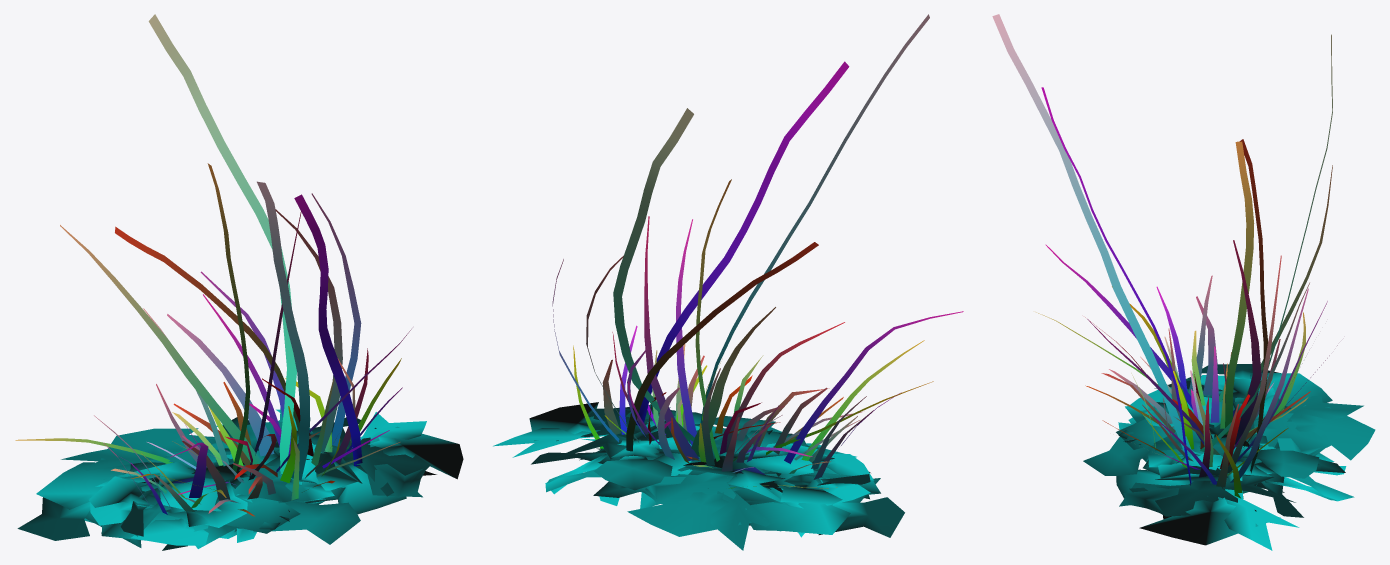
The model's file is Wild_Grass_vczndjqja_Mid_vczndjqja_VarH_LOD0.fbx.
3 renders of one model, left to right at view 1: azimuth 30°, elevation 25°; view 2: azimuth 150°, elevation 25°; view 3: azimuth 270°, elevation 25°, orthographic. The views are drawn at different scales.
Visible parts, largest first — view 1: _svju_VarH_LOD1; view 2: _svju_VarH_LOD1; view 3: _svju_VarH_LOD1.
Part boxes in pixels (x1,y1,x2,y2): _svju_VarH_LOD1: [15, 14, 463, 550]; _svju_VarH_LOD1: [493, 14, 963, 550]; _svju_VarH_LOD1: [992, 14, 1375, 550].
Bounding box in the file's own units: 89 × 90.44 × 76.68.
